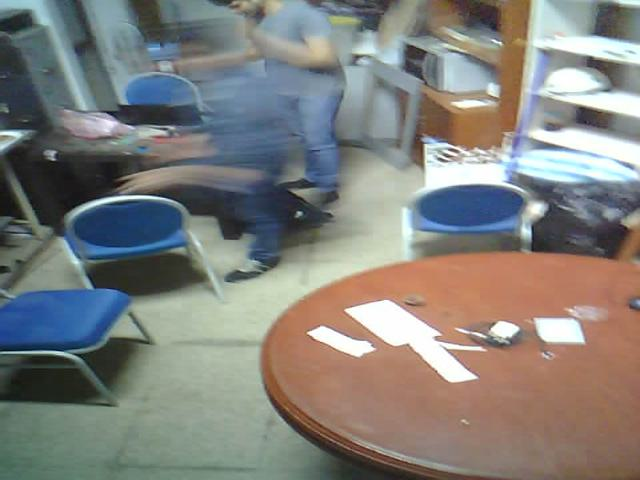person: (91, 71, 341, 304), (201, 1, 361, 220)
